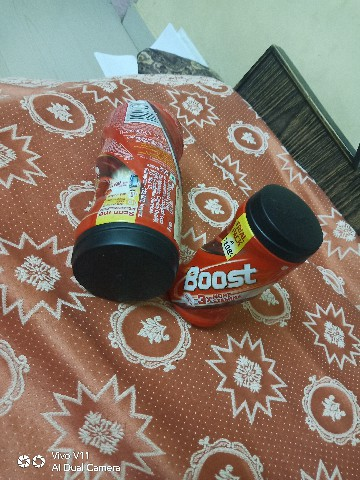boost big: (72, 81, 187, 307)
boost small: (178, 179, 327, 345)
